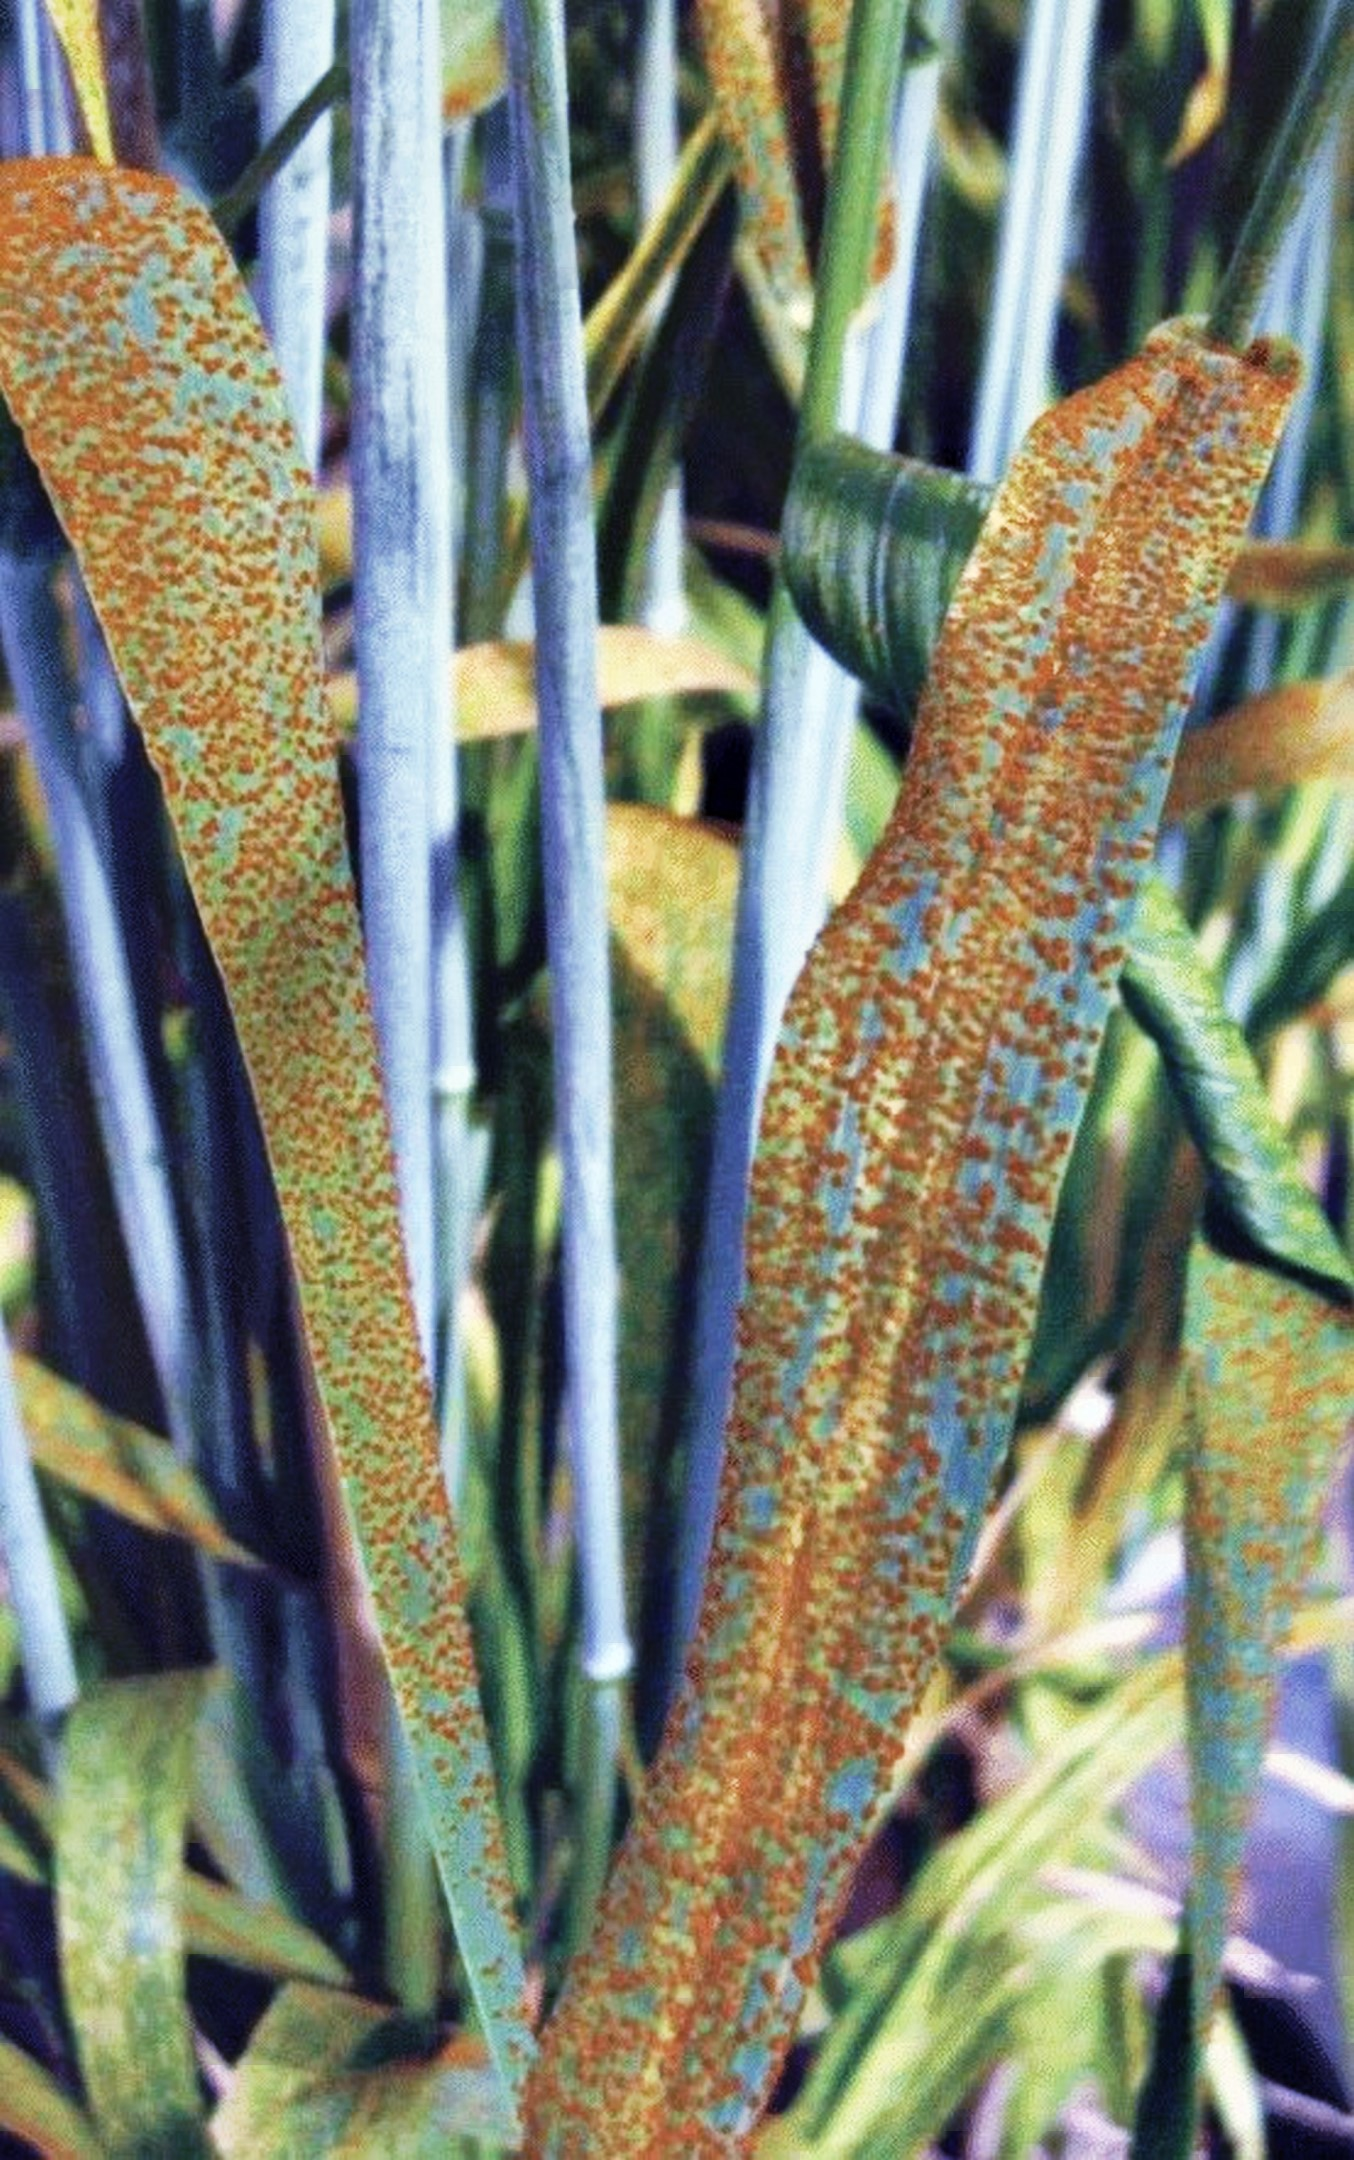Leaf Rust: (565, 368, 1290, 2002), (33, 207, 449, 1645)
